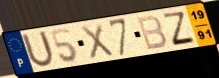5: (48, 26, 80, 65)
7: (107, 17, 130, 58)
B: (135, 14, 168, 52)
U: (20, 30, 56, 70)
X: (79, 22, 116, 61)
Z: (162, 10, 197, 47)
